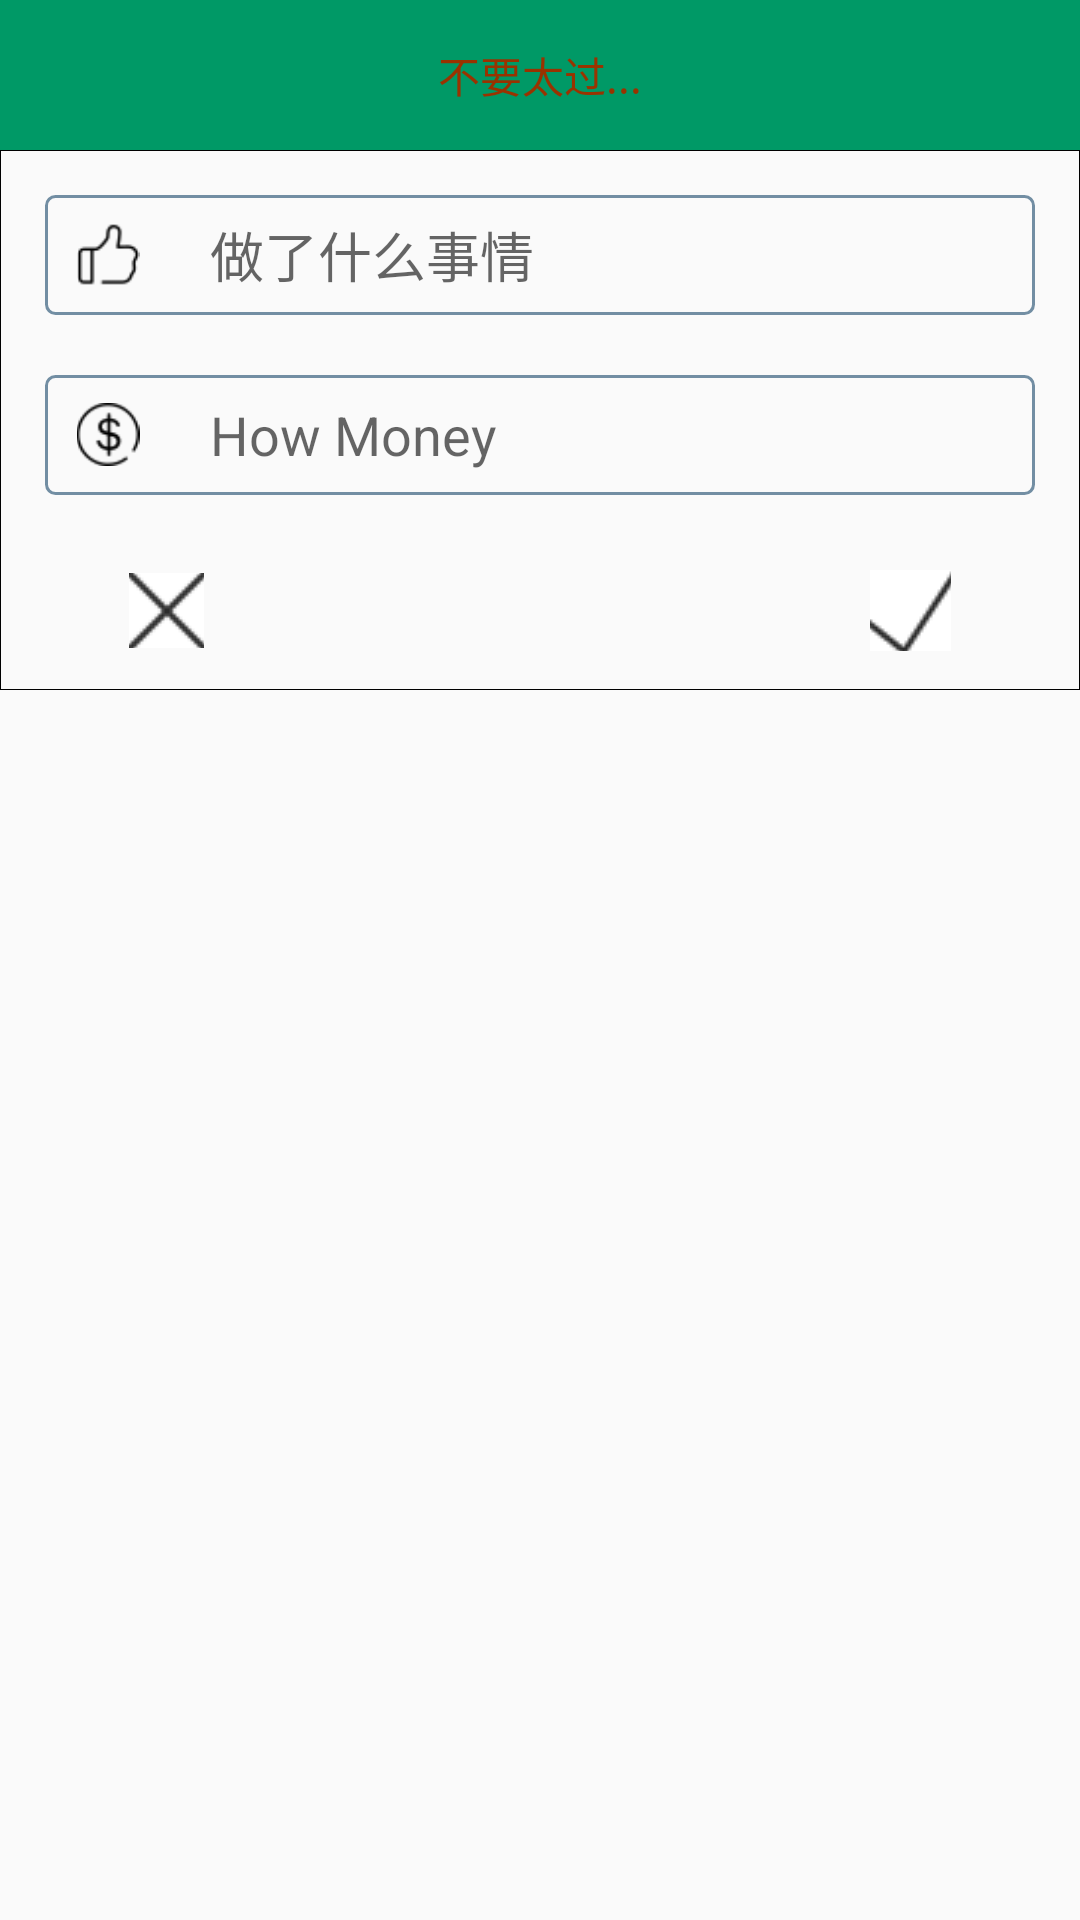

Locate icon controls on the screen. Image size 1080×1920, boxes as (x1=x1, y1=y1, x2=x2, y2=y2).
cancel: (x1=129, y1=573, x2=204, y2=648)
checked: (x1=870, y1=572, x2=951, y2=651)
good: (x1=77, y1=224, x2=140, y2=285)
trade: (x1=77, y1=403, x2=140, y2=466)
